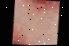plaque psoriasis: (10, 36, 39, 46)
